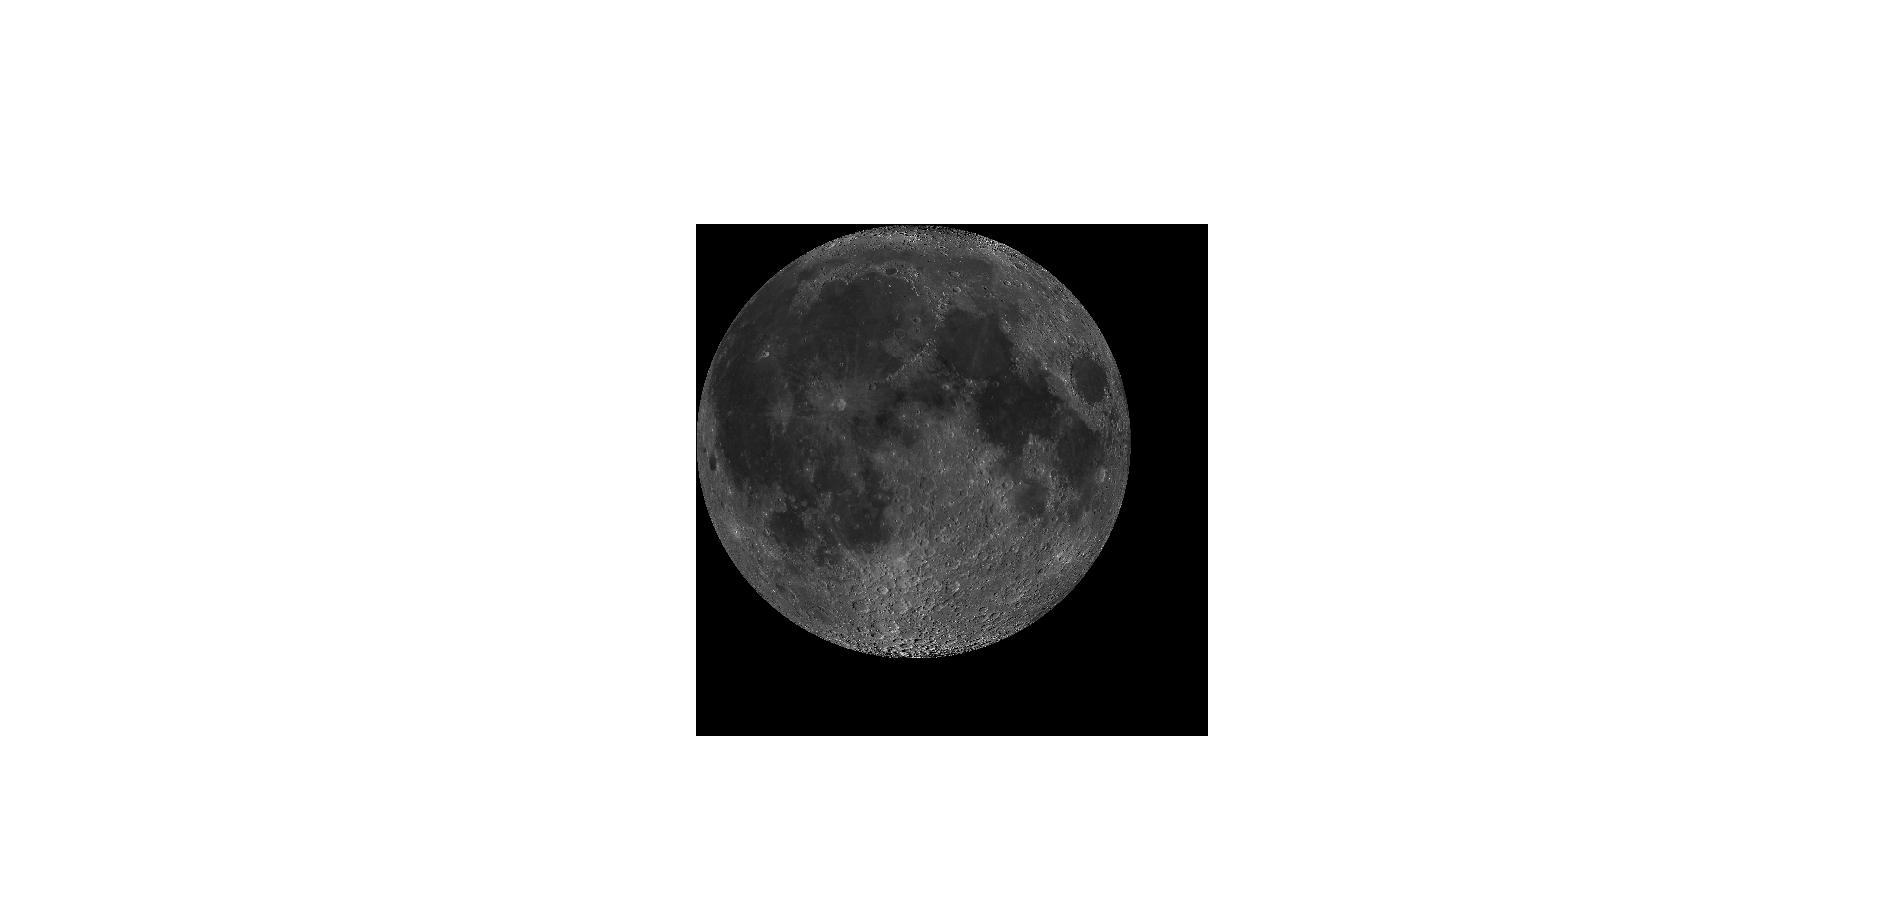crater: (812, 377, 866, 451), (1066, 351, 1111, 421), (750, 385, 801, 437), (753, 332, 780, 366), (916, 467, 940, 495), (703, 447, 723, 478), (847, 598, 877, 616), (1093, 460, 1110, 491), (892, 475, 913, 499), (880, 264, 906, 284), (886, 598, 911, 615), (1075, 521, 1092, 546), (913, 546, 941, 559), (996, 274, 1013, 296), (998, 478, 1018, 496), (894, 502, 916, 517), (872, 582, 892, 597), (946, 282, 964, 297), (905, 312, 925, 324), (1007, 540, 1021, 553), (829, 511, 843, 523), (911, 404, 924, 416), (977, 604, 991, 615), (991, 378, 1001, 394), (940, 380, 952, 392), (848, 467, 860, 479), (1035, 565, 1045, 576)
